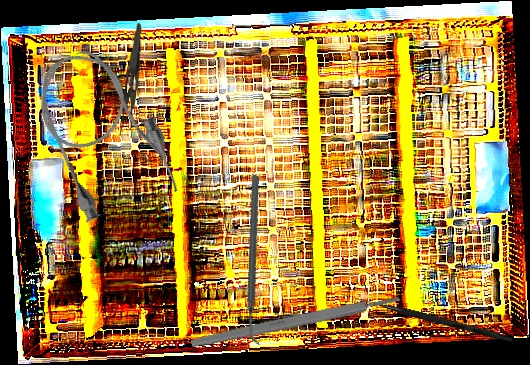Cannula: (19, 34, 188, 232)
Chopper: (188, 173, 324, 346)
Dressing Forceps: (118, 22, 142, 138)
Hook Surgical: (352, 295, 514, 343)
Scalpel Handle: (189, 292, 402, 351)
